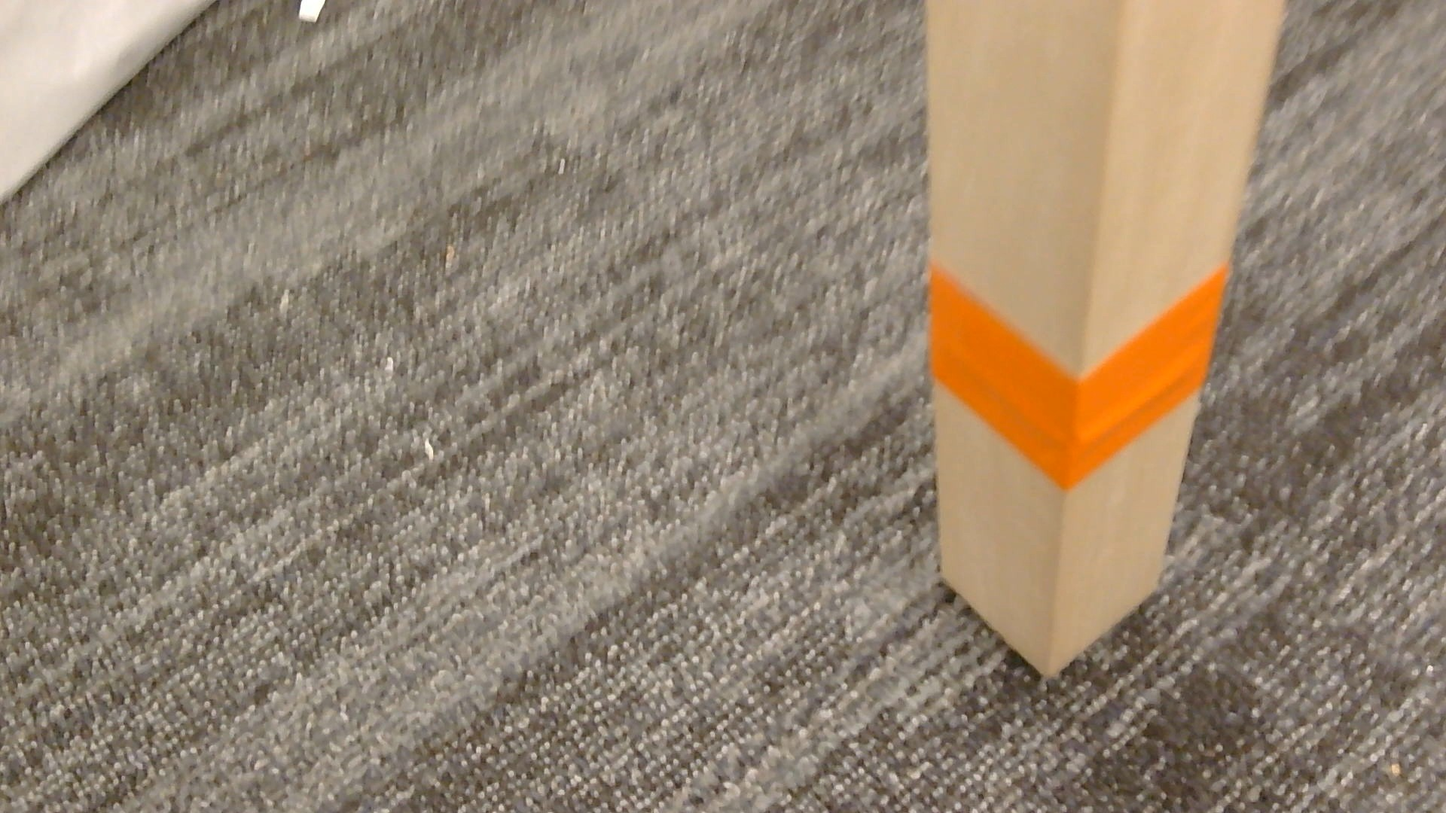Wooden Block: (925, 0, 1284, 674)
